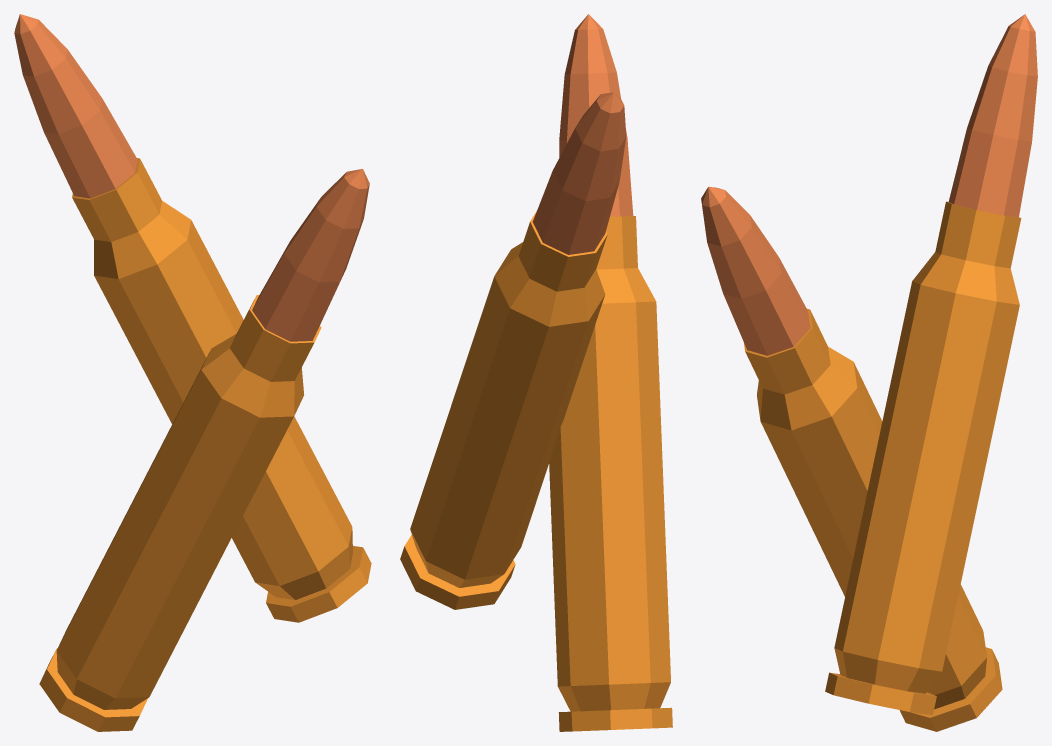
Rendered from Ammo.fbx.
The picture shows the model from 3 angles, left to right: view 1: azimuth 30°, elevation 25°; view 2: azimuth 150°, elevation 25°; view 3: azimuth 270°, elevation 25°; orthographic projection.
Visible parts, largest first — view 1: Bullets; view 2: Bullets; view 3: Bullets.
Part boxes in pixels (box(x1,y1,x2,y2)): Bullets: box(14, 14, 371, 731); Bullets: box(400, 14, 672, 731); Bullets: box(701, 14, 1037, 731).
Size of the model in its own units: 0.3966 by 0.4108 by 0.9197.
